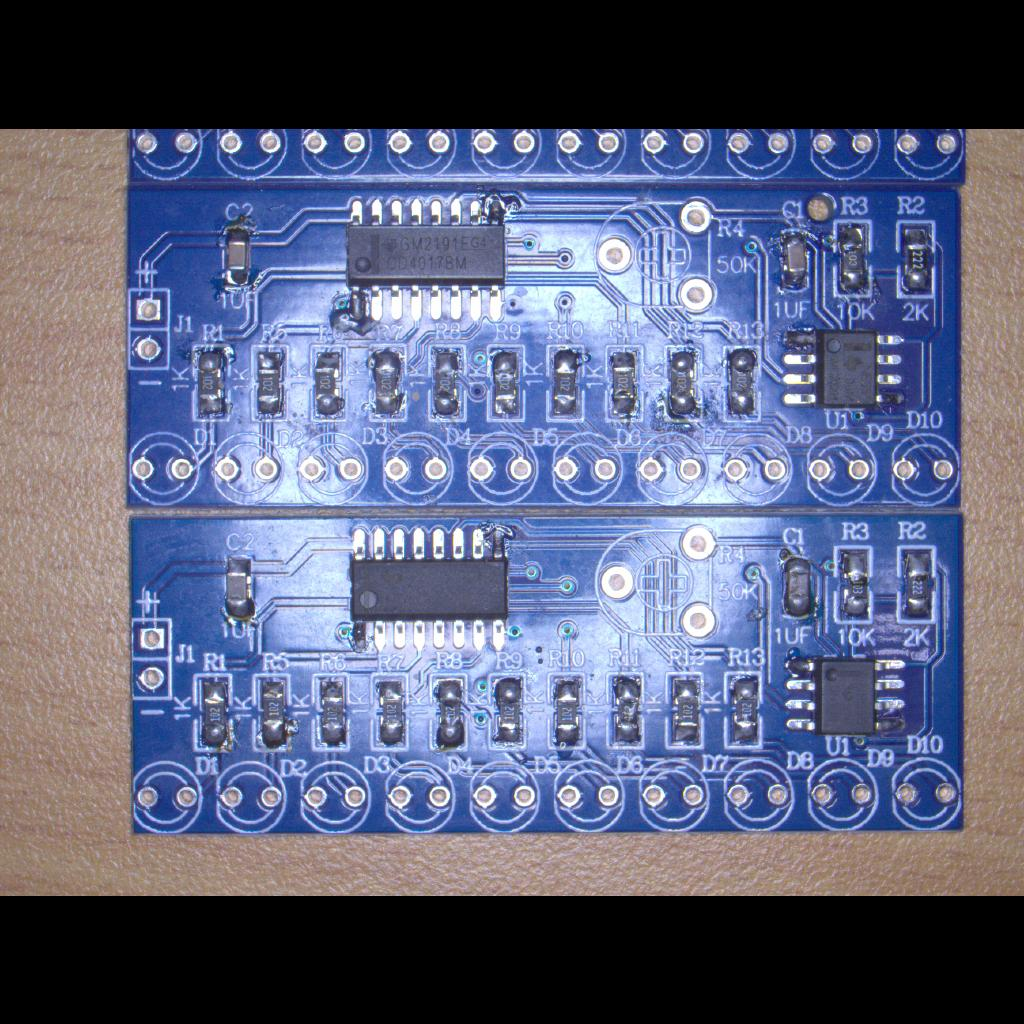OK: (341, 518, 521, 656), (340, 190, 516, 330), (778, 647, 918, 741), (776, 322, 910, 416), (248, 668, 298, 756), (540, 668, 590, 756), (424, 339, 472, 427), (894, 541, 942, 629), (717, 340, 765, 426), (830, 542, 878, 628), (662, 668, 708, 756), (186, 338, 234, 422), (192, 670, 238, 756), (426, 671, 474, 753), (831, 215, 875, 303), (310, 670, 356, 754), (366, 338, 410, 424), (484, 342, 530, 424), (602, 343, 648, 425), (894, 218, 940, 300), (602, 668, 648, 750), (306, 341, 350, 425), (369, 670, 413, 754), (724, 667, 766, 753), (486, 670, 530, 752), (250, 341, 292, 425), (662, 341, 704, 425), (776, 547, 820, 623), (546, 343, 586, 425), (220, 549, 260, 629), (774, 222, 816, 296)
